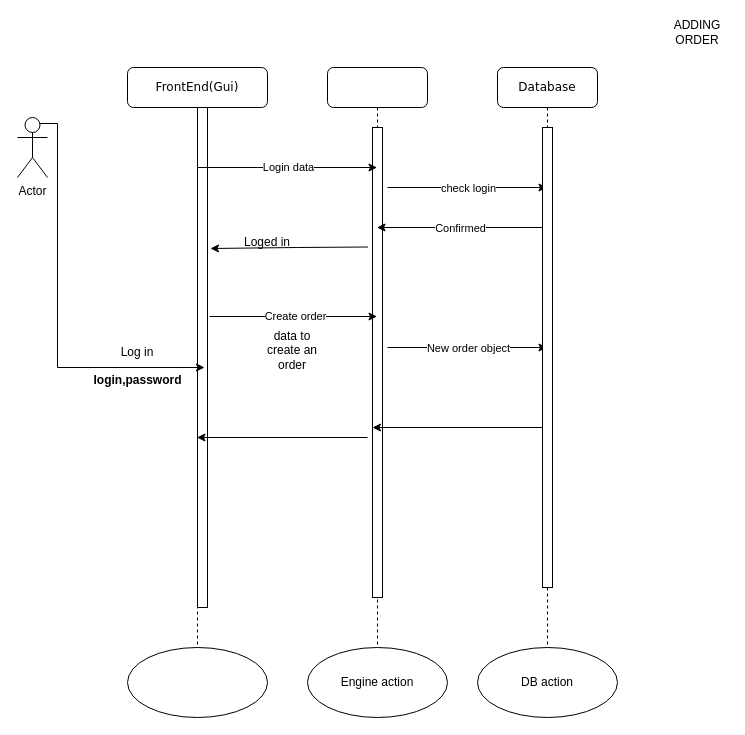
The diagram is 745 pixels wide and 735 high, and some of its shapes have lost their labels. Each missing label, with the box of its shape:
Actor action: (126, 646, 268, 718)
Engine: (326, 66, 428, 648)
